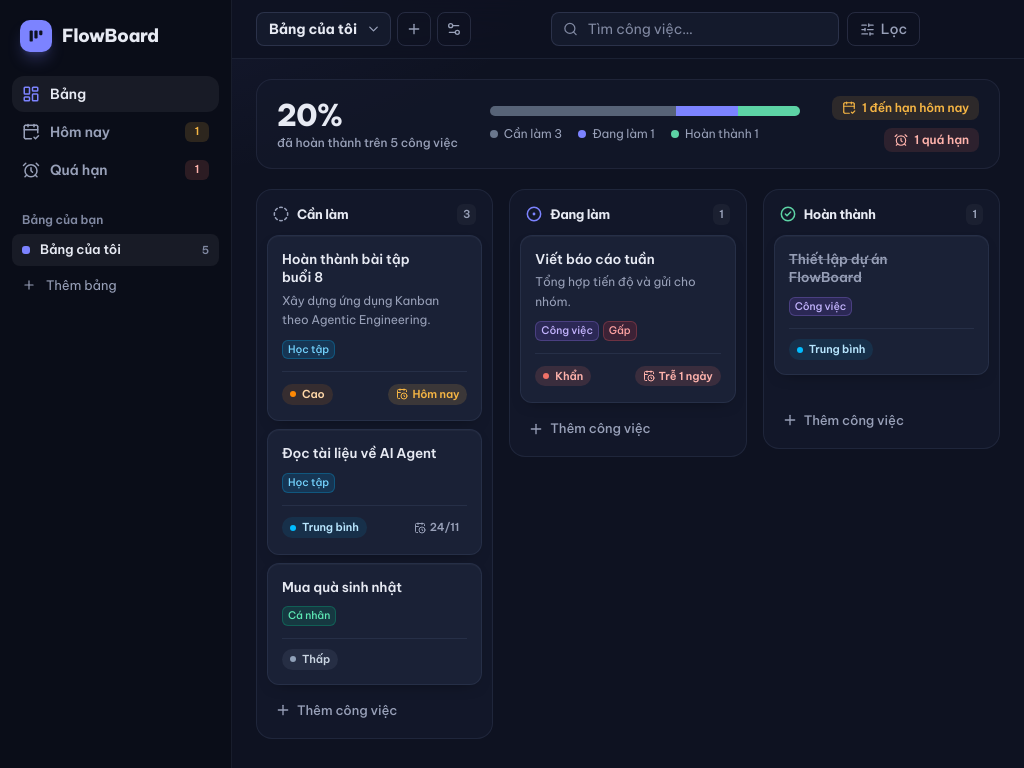
Test: M10 review fixes › creating a board from the sidebar opens it on the board view
Click the button "Quá hạn 1" at (116, 170), box [12,152,219,188]
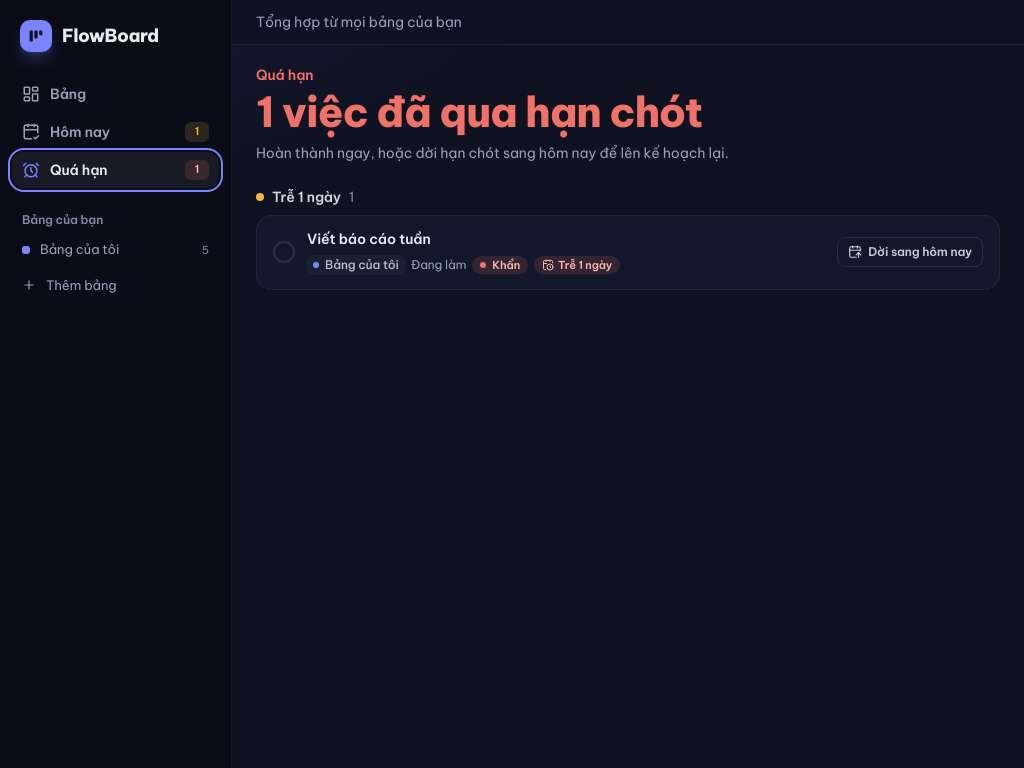
Click the button "Thêm bảng" at (116, 285), box [12,270,219,301]
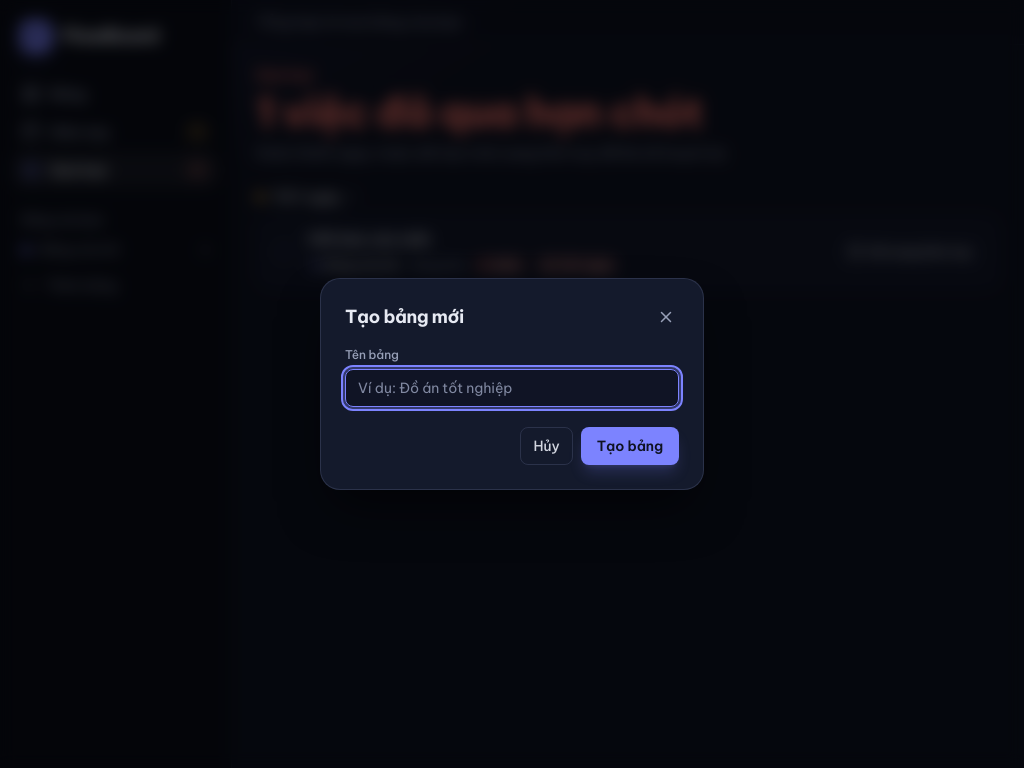
Type "Đồ án" into the field labelled "Tên bảng" at (512, 388), box [345,369,679,407]
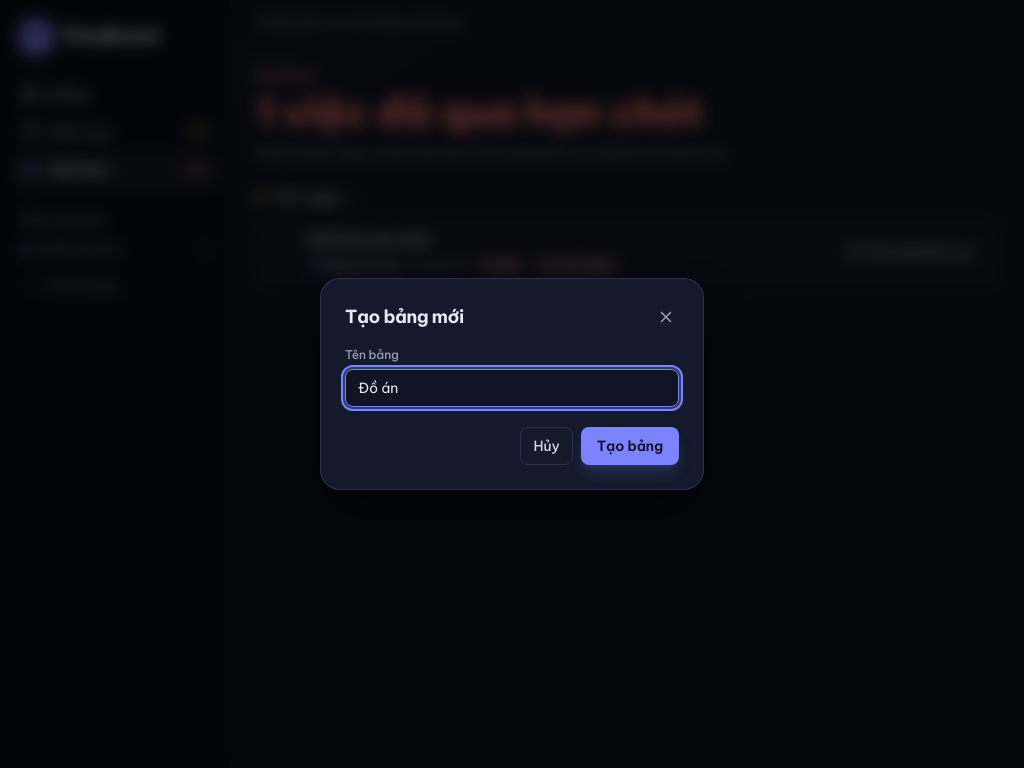
Click the button "Tạo bảng" at (630, 446), box [581,427,679,465]
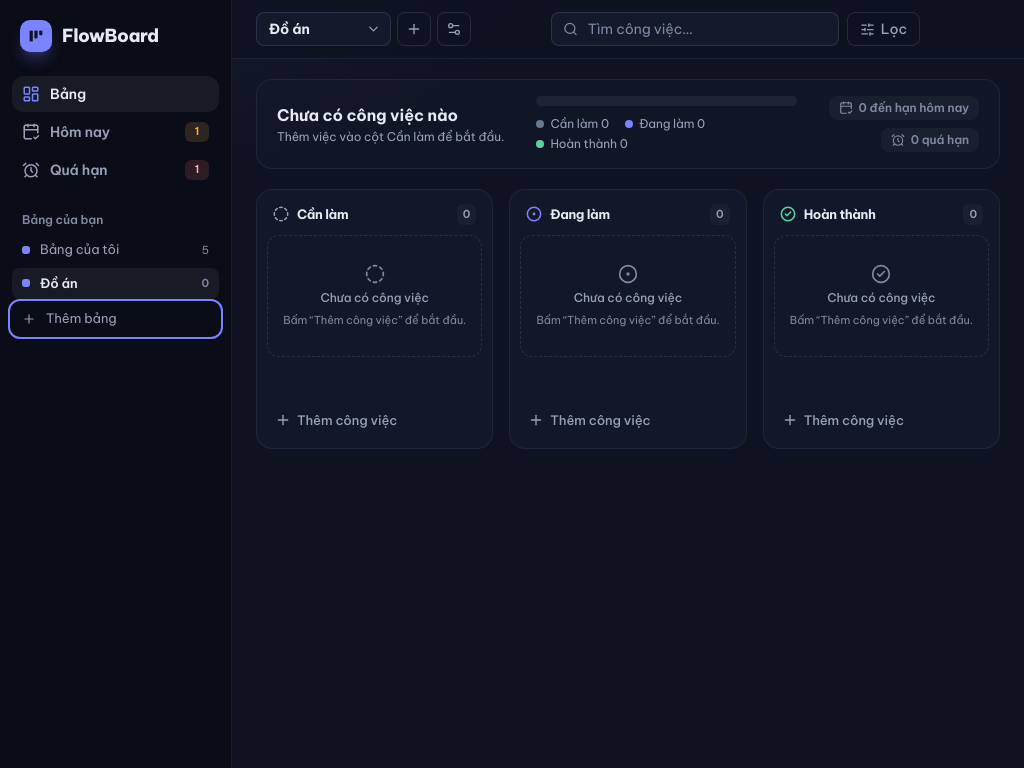
Now the dropdown named "Chọn bảng" shows "Đồ án", box [256,12,391,46]
